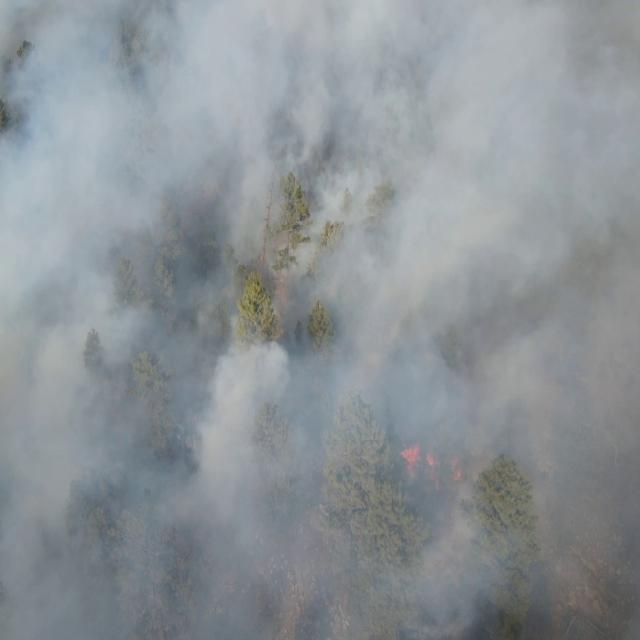fire: (398, 438, 422, 482), (427, 450, 444, 496), (449, 452, 463, 487)
smoke: (3, 0, 637, 640)
